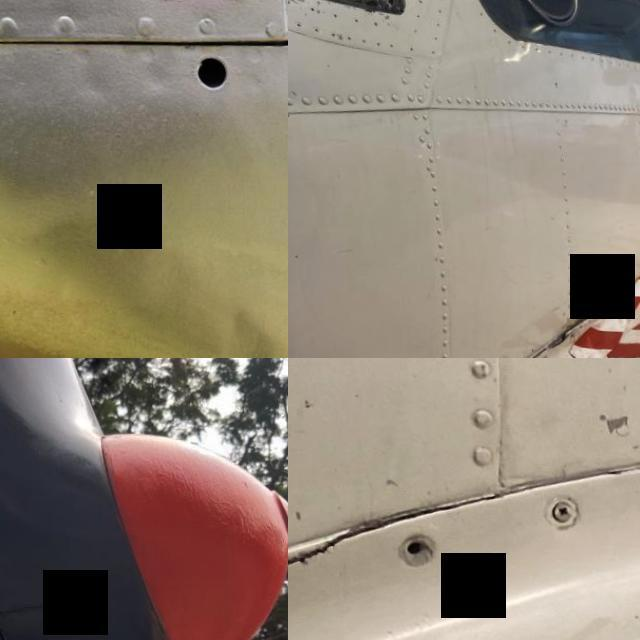Crack: (524, 266, 634, 351), (0, 561, 121, 631), (288, 506, 371, 590)
Missing_Fastener: (166, 20, 252, 114), (400, 528, 434, 564)
